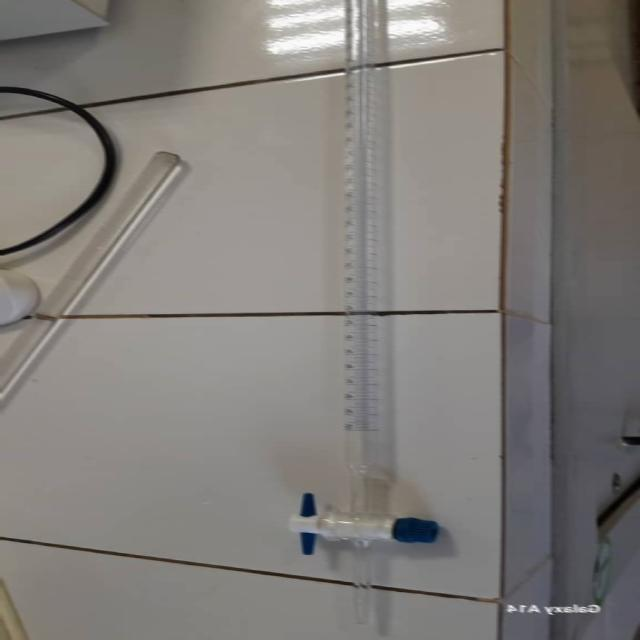Biurette: (268, 18, 447, 634)
